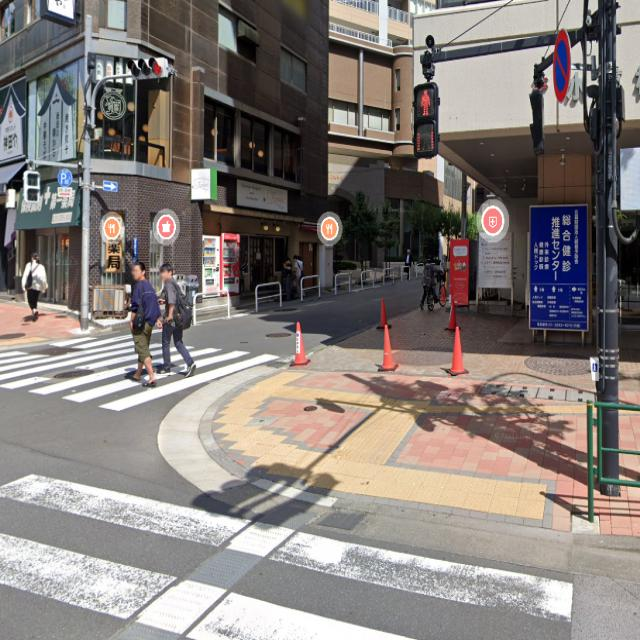traffic-light: (411, 83, 443, 156)
